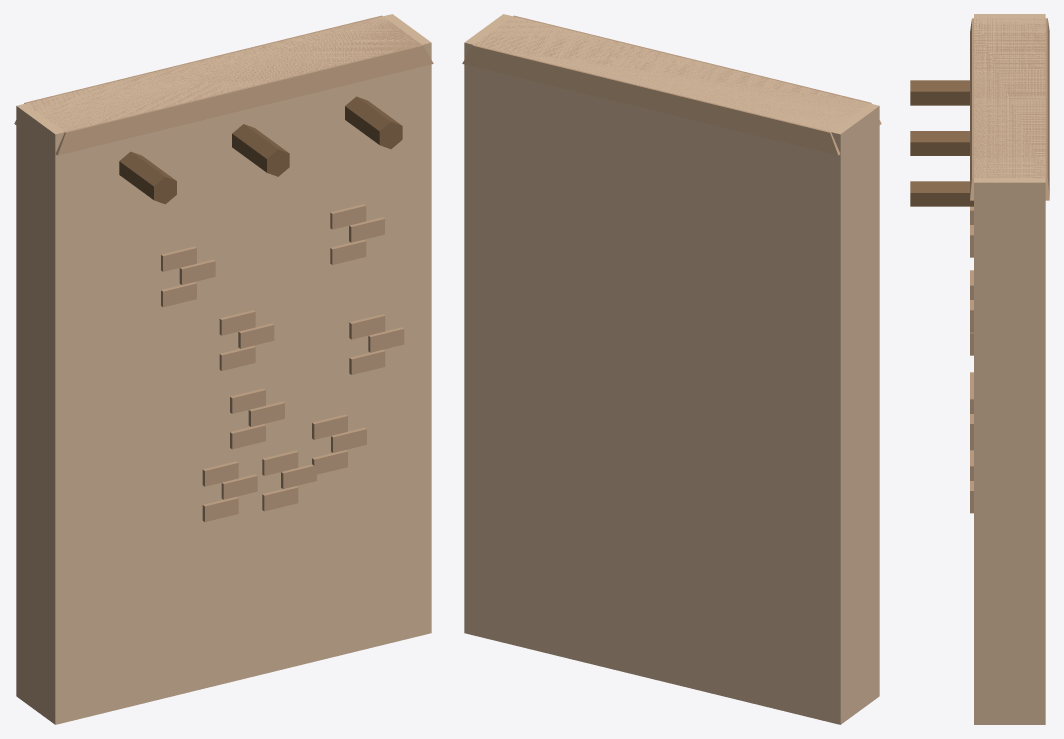
Rendered from SM_Wall_Adobe.glb.
The picture shows the model from 3 angles, left to right: view 1: azimuth 30°, elevation 25°; view 2: azimuth 150°, elevation 25°; view 3: azimuth 270°, elevation 25°; orthographic projection. The views are drawn at different scales.
Parts seen in each view (by area): view 1: SM_Wall_Adobe; view 2: SM_Wall_Adobe; view 3: SM_Wall_Adobe.
Boxes of the visible parts, x1,y1,x2,y2 form: SM_Wall_Adobe: [14, 14, 433, 724]; SM_Wall_Adobe: [462, 14, 881, 724]; SM_Wall_Adobe: [910, 14, 1049, 724].
Bounding box in the file's own units: 2 × 3 × 0.7.
